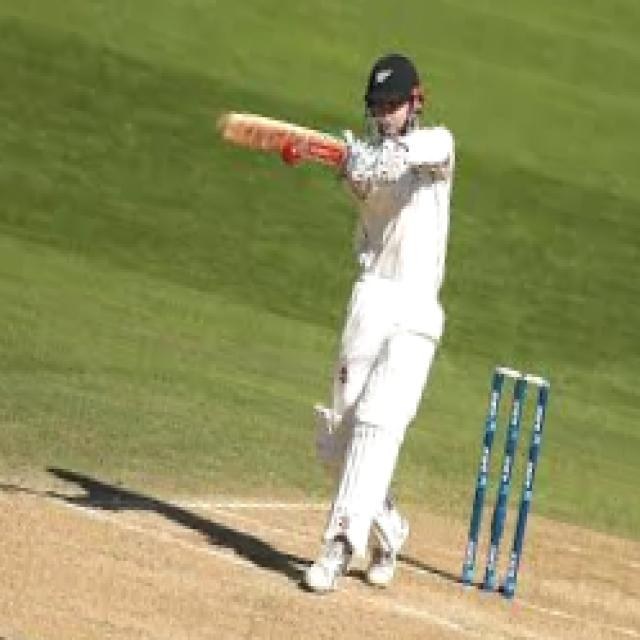toe: (212, 98, 246, 144)
